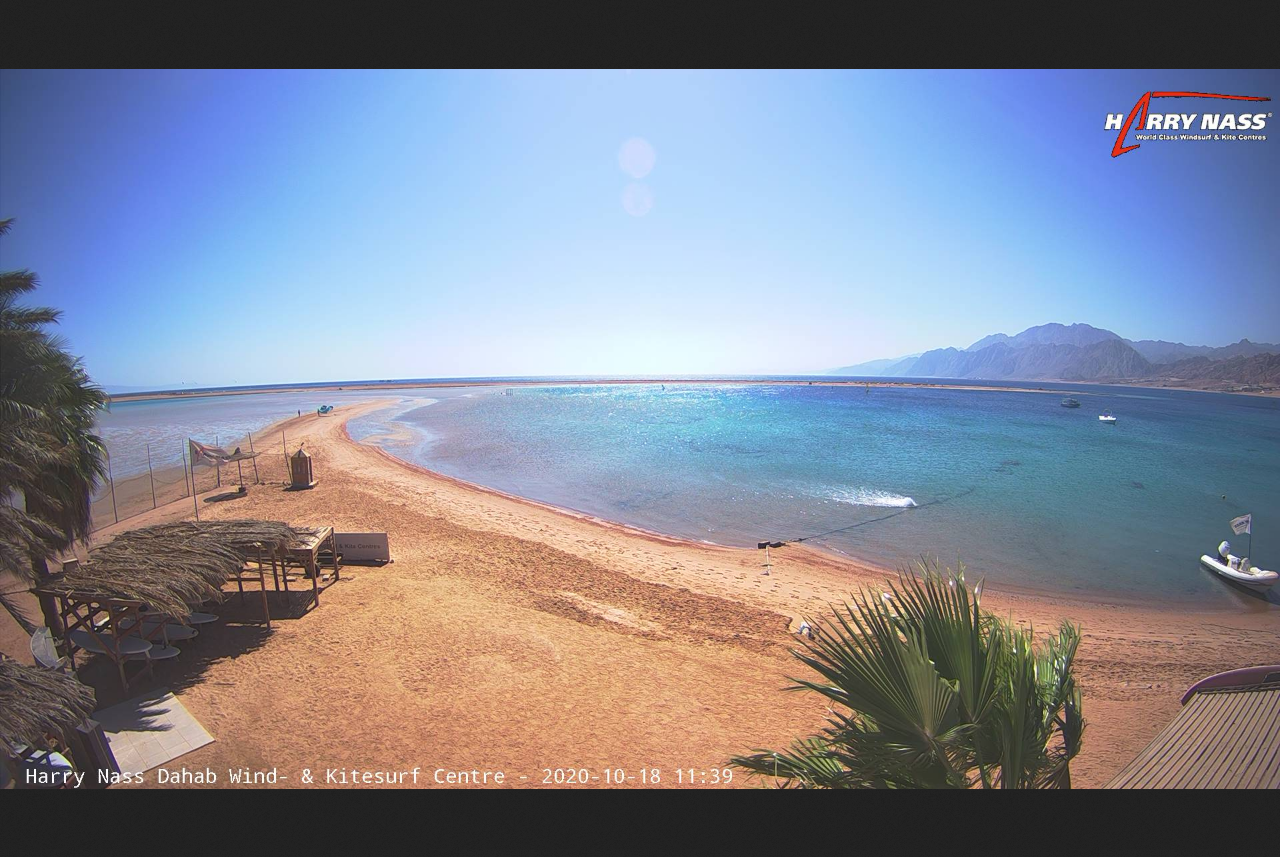yes: (186, 437, 258, 472)
